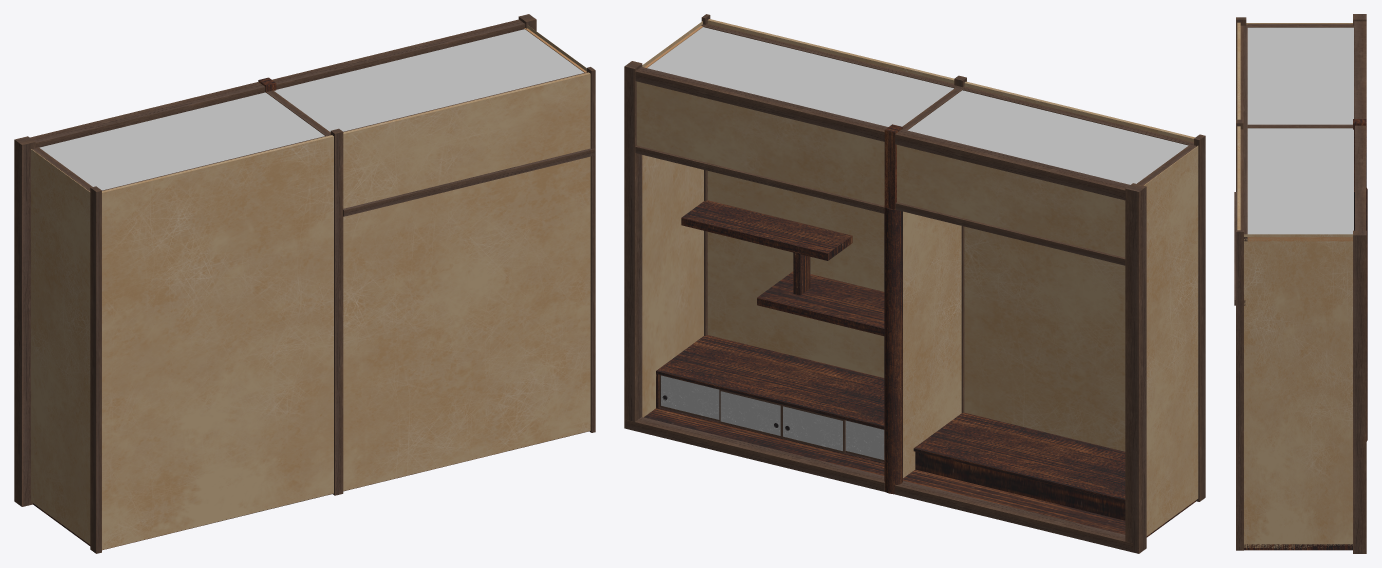
File: inwall_toko_2t_a.fbx
The picture shows the model from 3 angles, left to right: view 1: azimuth 30°, elevation 25°; view 2: azimuth 150°, elevation 25°; view 3: azimuth 270°, elevation 25°; orthographic projection. The views are drawn at different scales.
Parts seen in each view (by area): view 1: inwall_toko_2t_a; view 2: inwall_toko_2t_a; view 3: inwall_toko_2t_a.
Boxes of the visible parts, box(x1,y1,x2,y2) form: inwall_toko_2t_a: box(14, 14, 595, 553); inwall_toko_2t_a: box(624, 14, 1205, 553); inwall_toko_2t_a: box(1234, 14, 1367, 553).
Bounding box in the file's own units: 440 × 296 × 112.
